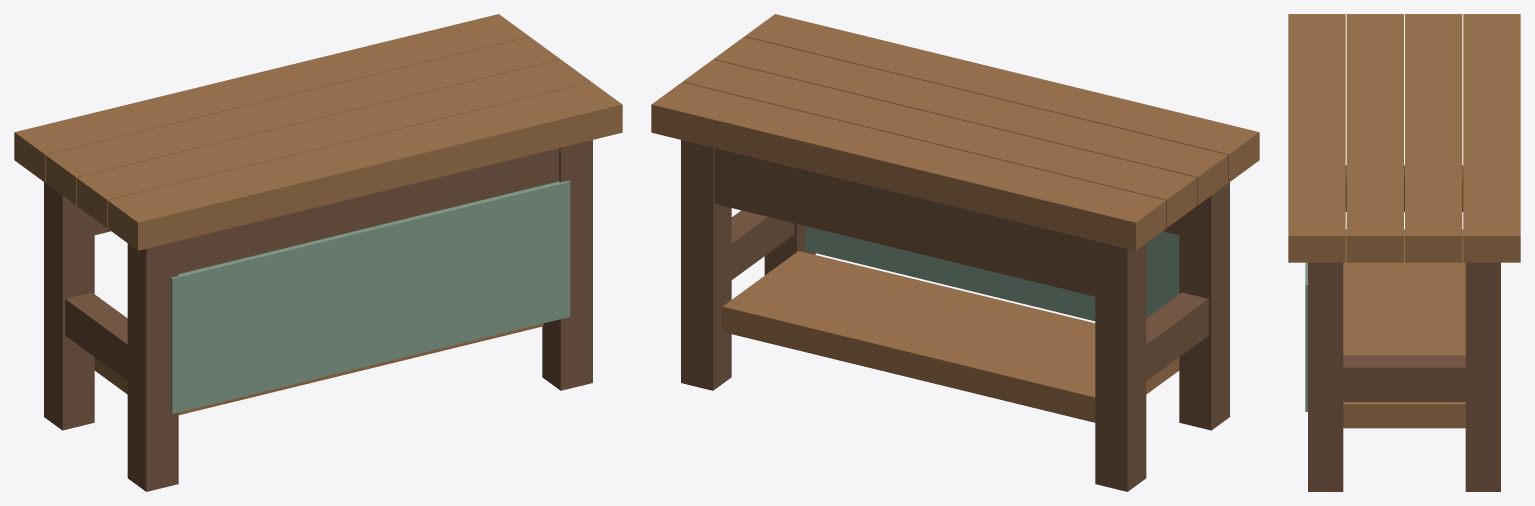
File: counter.glb
The picture shows the model from 3 angles, left to right: view 1: azimuth 30°, elevation 25°; view 2: azimuth 150°, elevation 25°; view 3: azimuth 270°, elevation 25°; orthographic projection. The views are drawn at different scales.
Visible parts, largest first — view 1: counter_FrontPanel_8-col, counter_TopPlank_12-col, counter_TopPlank_10-col, counter_TopPlank_9-col, counter_TopPlank_11-col, counter_Apron_5-col, counter_Leg_1-col, counter_Leg_0-col, counter_Leg_3-col, counter_SideRail_6-col, counter_LowerShelf_13-col, counter_Apron_4-col; view 2: counter_LowerShelf_13-col, counter_TopPlank_9-col, counter_Apron_4-col, counter_TopPlank_11-col, counter_TopPlank_12-col, counter_TopPlank_10-col, counter_Leg_0-col, counter_Leg_2-col, counter_Leg_1-col, counter_FrontPanel_8-col, counter_SideRail_6-col, counter_SideRail_7-col (+1 smaller); view 3: counter_LowerShelf_13-col, counter_TopPlank_9-col, counter_TopPlank_10-col, counter_TopPlank_11-col, counter_TopPlank_12-col, counter_Leg_3-col, counter_Leg_2-col, counter_SideRail_7-col, counter_Apron_4-col, counter_Apron_5-col, counter_FrontPanel_8-col.
Boxes of the visible parts, box(x1,y1,x2,y2) form: counter_FrontPanel_8-col: box(170, 180, 570, 413); counter_TopPlank_12-col: box(107, 82, 622, 250); counter_TopPlank_10-col: box(45, 37, 560, 205); counter_TopPlank_9-col: box(14, 14, 529, 182); counter_TopPlank_11-col: box(76, 59, 590, 227); counter_Apron_5-col: box(129, 148, 559, 303); counter_Leg_1-col: box(127, 241, 178, 491); counter_Leg_0-col: box(44, 182, 94, 430); counter_Leg_3-col: box(542, 140, 592, 390); counter_SideRail_6-col: box(65, 292, 127, 380); counter_LowerShelf_13-col: box(94, 323, 543, 414); counter_Apron_4-col: box(45, 183, 110, 242); counter_LowerShelf_13-col: box(722, 251, 1179, 422); counter_TopPlank_9-col: box(651, 82, 1166, 250); counter_Apron_4-col: box(714, 148, 1144, 304); counter_TopPlank_11-col: box(713, 37, 1228, 205); counter_TopPlank_12-col: box(744, 14, 1259, 182); counter_TopPlank_10-col: box(683, 59, 1197, 227); counter_Leg_0-col: box(1095, 241, 1146, 491); counter_Leg_2-col: box(681, 140, 731, 390); counter_Leg_1-col: box(1179, 182, 1229, 430); counter_FrontPanel_8-col: box(805, 226, 1179, 321); counter_SideRail_6-col: box(1146, 292, 1208, 380); counter_SideRail_7-col: box(731, 210, 794, 279); counter_LowerShelf_13-col: box(1343, 229, 1465, 428); counter_TopPlank_9-col: box(1463, 14, 1520, 262); counter_TopPlank_10-col: box(1405, 14, 1462, 262); counter_TopPlank_11-col: box(1346, 14, 1403, 262); counter_TopPlank_12-col: box(1288, 14, 1345, 262); counter_Leg_3-col: box(1308, 262, 1343, 491); counter_Leg_2-col: box(1465, 262, 1500, 491); counter_SideRail_7-col: box(1343, 355, 1465, 401); counter_Apron_4-col: box(1468, 262, 1497, 317); counter_Apron_5-col: box(1311, 262, 1340, 317); counter_FrontPanel_8-col: box(1305, 262, 1307, 411).
Size of the model in its own units: 1.8 by 1 by 0.796.
